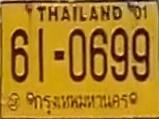0: (68, 28, 86, 81)
1: (38, 27, 44, 81)
6: (10, 28, 29, 82), (89, 28, 107, 81)
9: (131, 27, 149, 81), (110, 27, 128, 80)
BKK: (30, 92, 130, 116)
